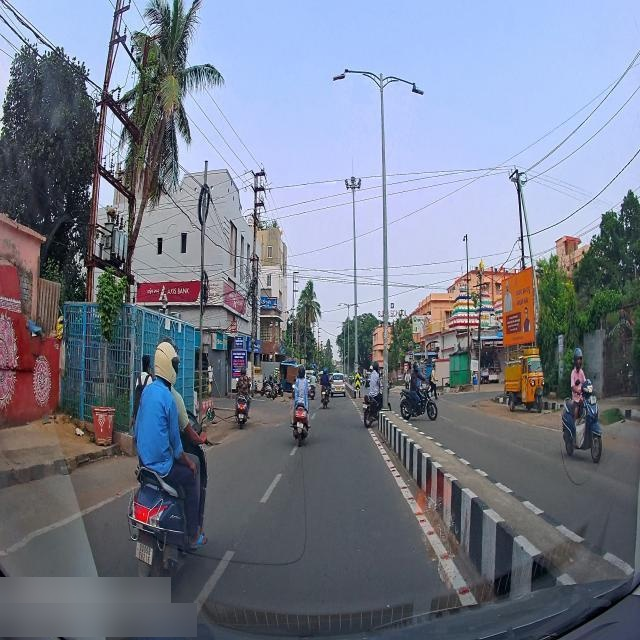pothole: (251, 417, 286, 429)
